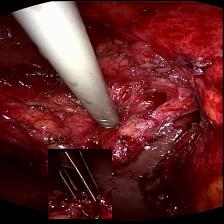Grasper: (48, 148, 112, 218)
Irrigator: (83, 98, 125, 130)
